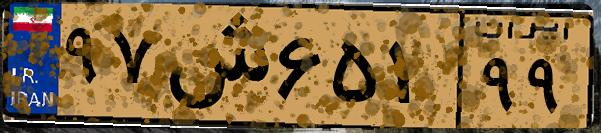1: (385, 28, 445, 110)
5: (330, 28, 385, 110)
6: (270, 28, 330, 110)
7: (110, 28, 158, 98)
9: (57, 26, 110, 100), (475, 38, 525, 113), (525, 38, 570, 115)
ش: (158, 12, 270, 120)
